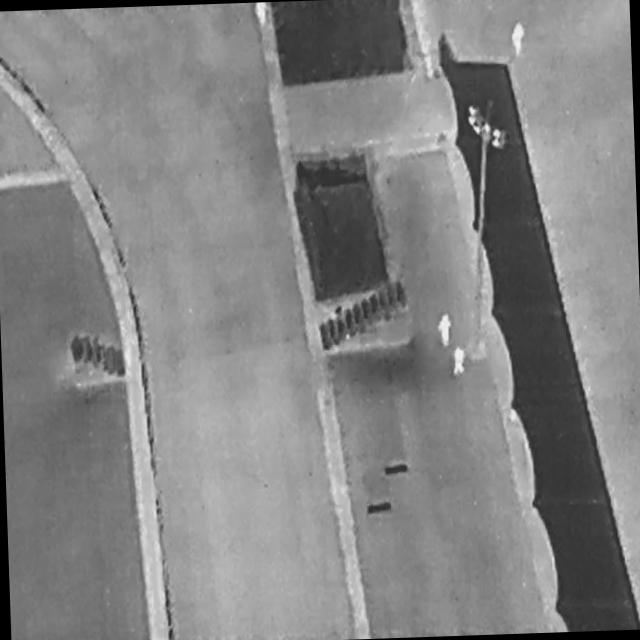person: (510, 18, 527, 59), (437, 312, 453, 350), (451, 345, 468, 377), (253, 3, 270, 29)
